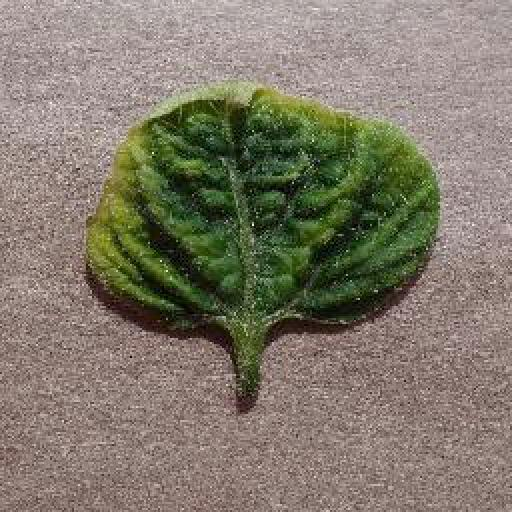disease_tomato: (83, 84, 444, 330)
